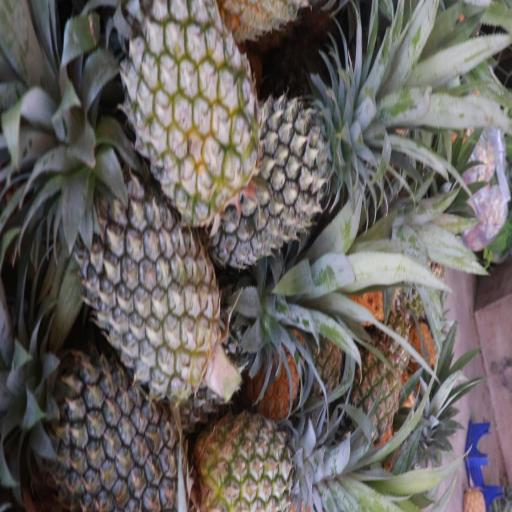------------------------------: (121, 0, 256, 209), (194, 407, 337, 512)
